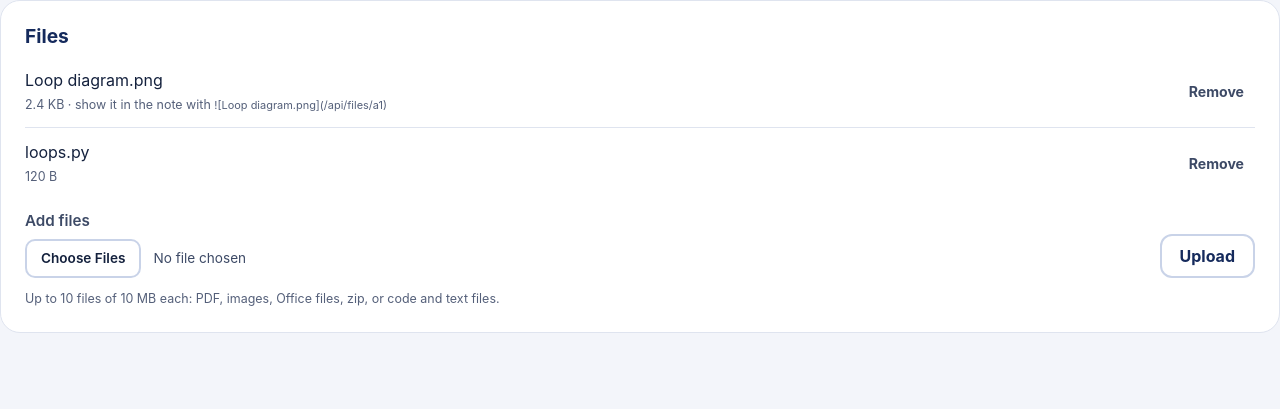
it: FilesForm › removes a file
Step 1. Click the button with aria-label "Remove loops.py" → {"x": 1216, "y": 163}, box [1178,145,1255,181]
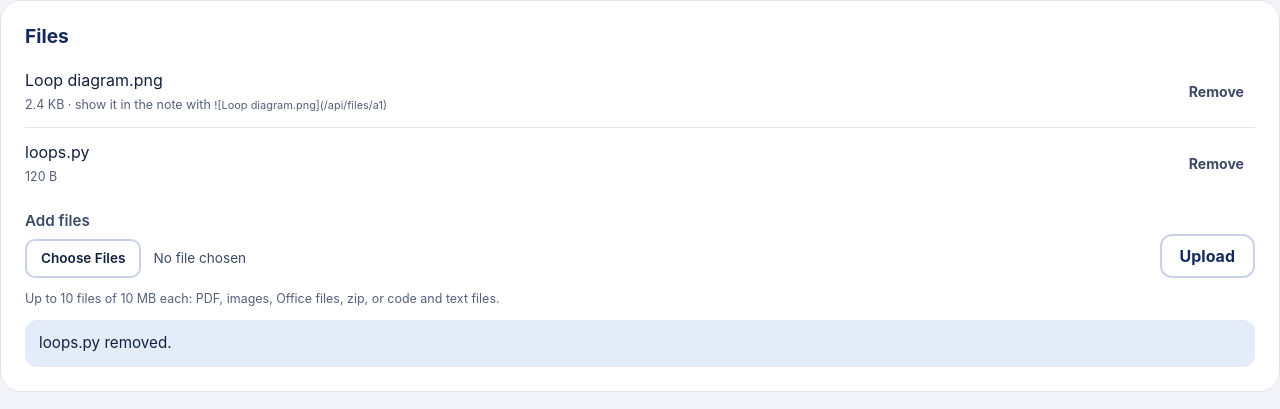
Expected: the message reads "loops.py removed.", [39,333,172,352]
